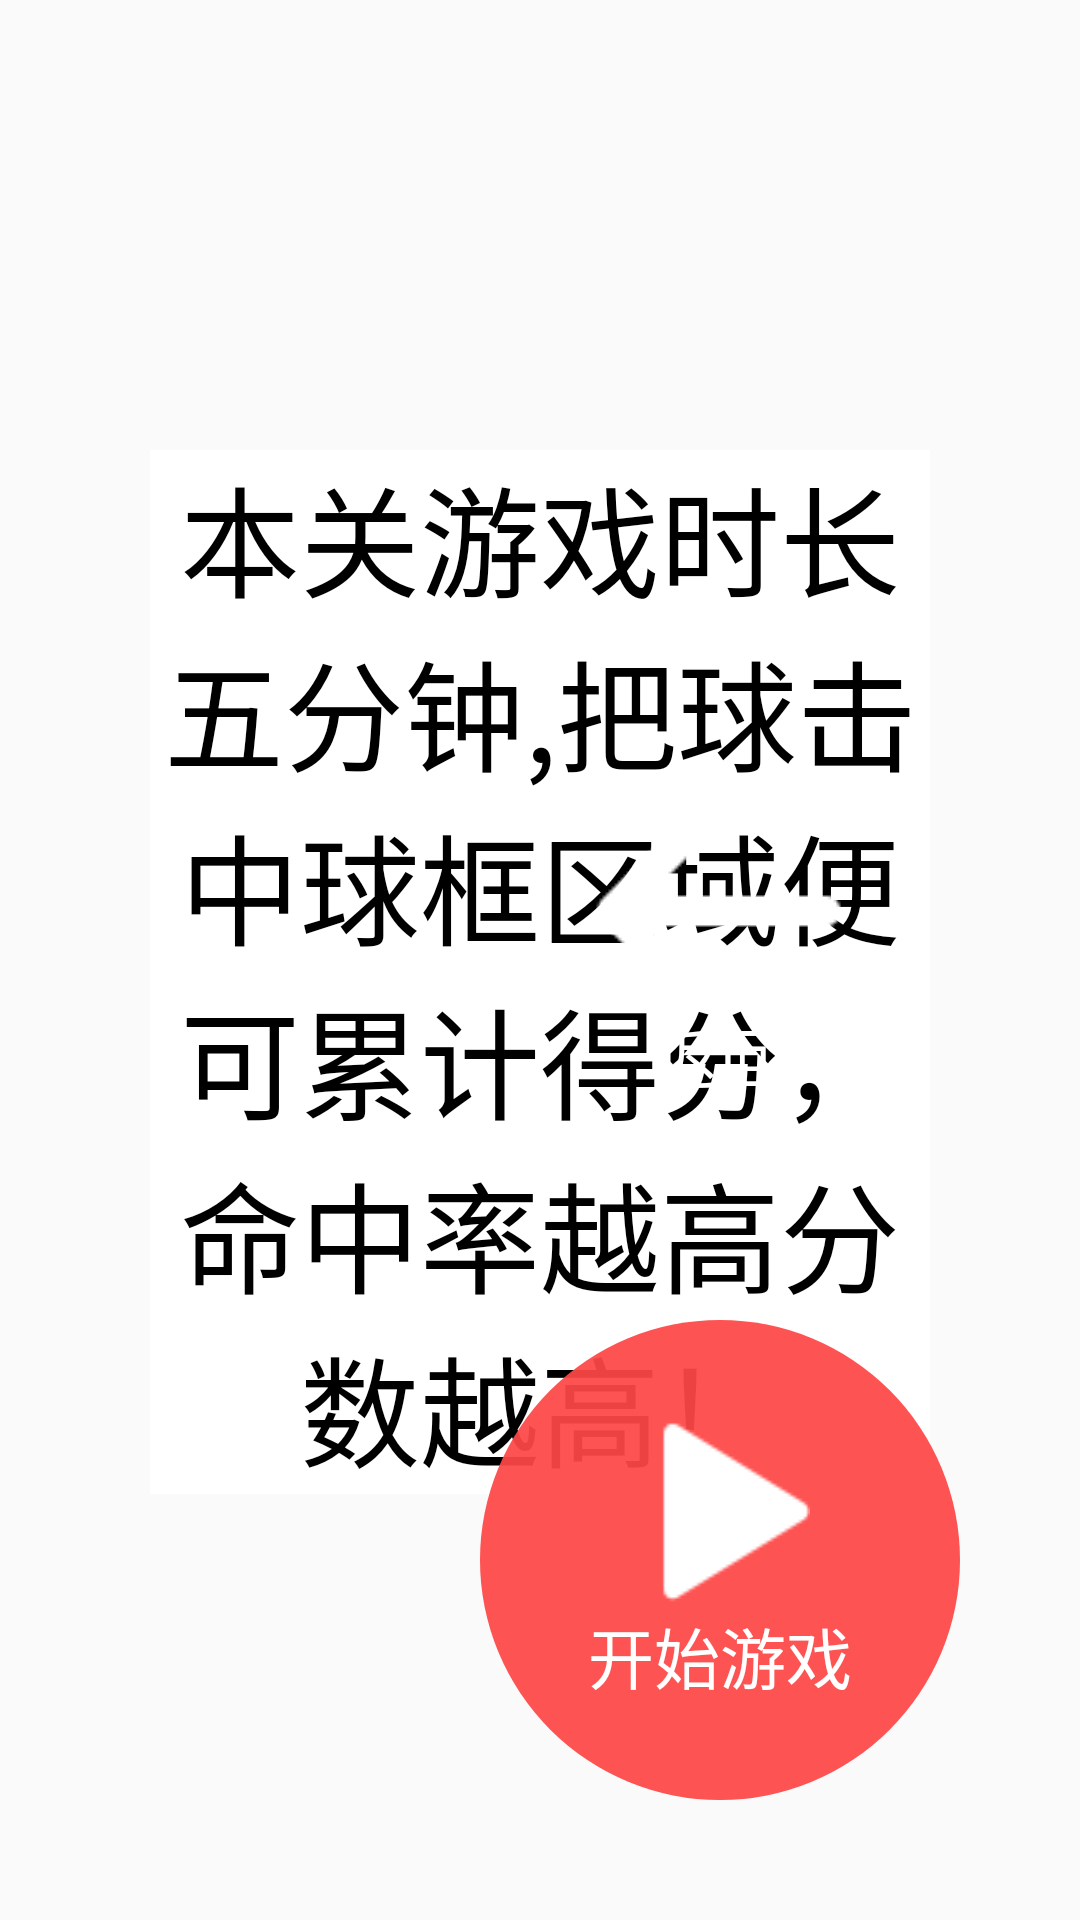

Icons on this 1080px x 1920px Android screen, each with the point to tap as [x,y]:
continue play: [736,1512]
